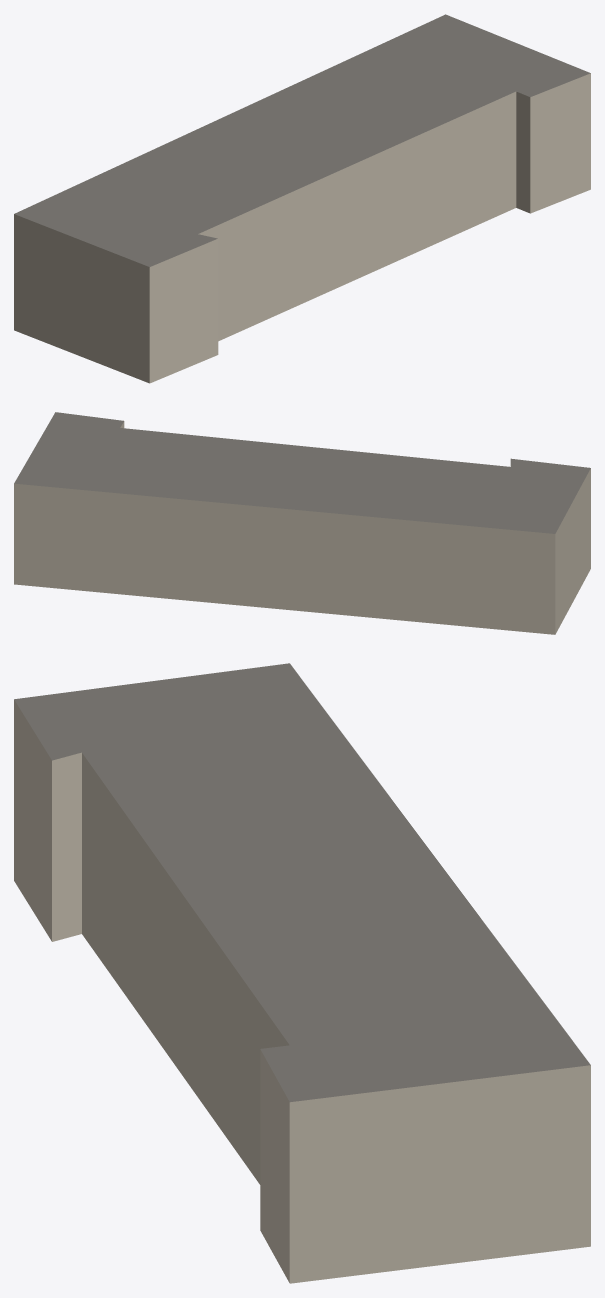
3 views of the same model, one above another, from view 1: azimuth 30°, elevation 25°; view 2: azimuth 150°, elevation 25°; view 3: azimuth 270°, elevation 25° (orthographic). The views are drawn at different scales.
Parts seen in each view (by area): view 1: HP-w496383038; view 2: HP-w496383038; view 3: HP-w496383038.
Part boxes in pixels (x1,y1,x2,y2): HP-w496383038: [14, 14, 590, 383]; HP-w496383038: [14, 412, 590, 634]; HP-w496383038: [14, 663, 590, 1283].
Size of the model in its own units: 62.26 by 12 by 34.58.
